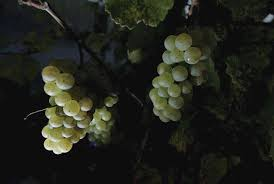Green grapes: (149, 31, 208, 126), (39, 61, 91, 155)
